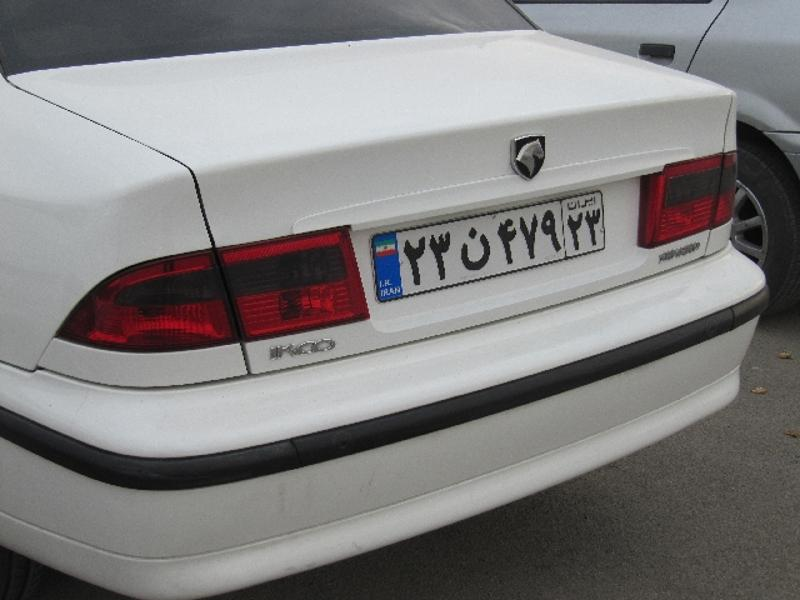Plate: (366, 182, 629, 301)
